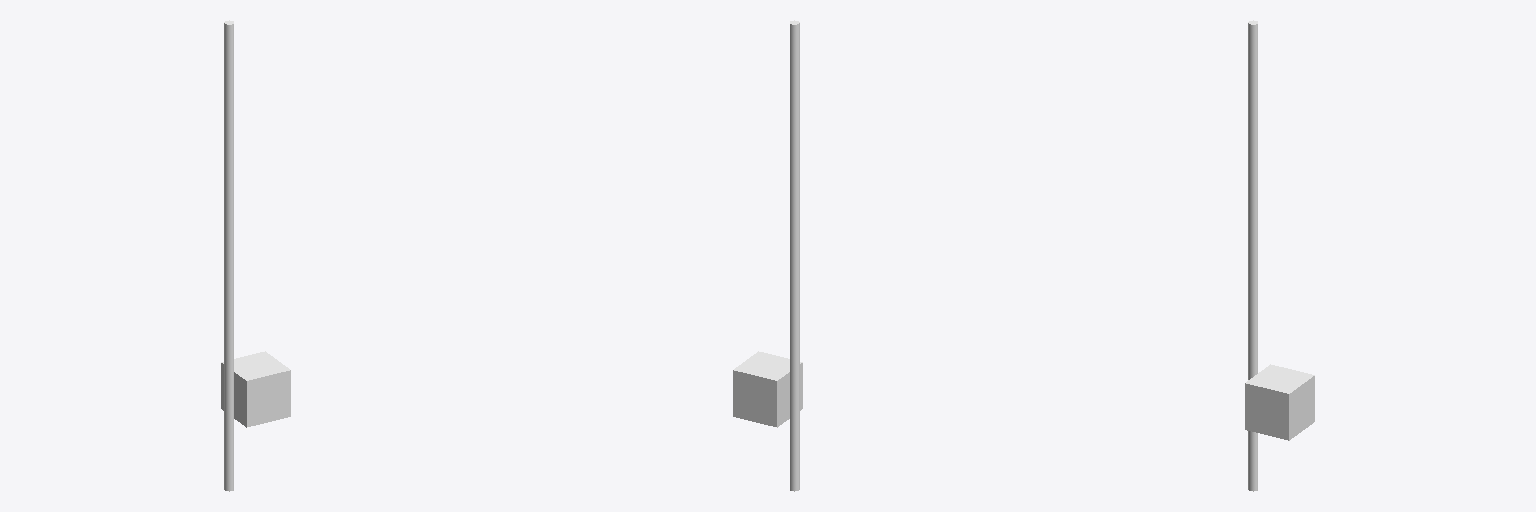
The robot description file, URDF, robot "lever":
<?xml version="1.0"?>
<robot name="lever">
    <material name="white">
        <color rgba="1.0 1.0 1.0 1.0"/>
    </material>
    <link name="base_link">
        <visual>
            <geometry>
                <box size="0.1 0.1 0.1"/>
            </geometry>
            <material name="white"/>
        </visual>
        <collision>
            <geometry>
                <box size="0.1 0.1 0.1"/>
            </geometry>
        </collision>
        <inertial>
            <mass value="0.1"/>
            <inertia ixx="0.1" ixy="0.0" ixz="0.0" iyy="0.1" iyz="0.0" izz="0.1"/>
        </inertial>
    </link>
    <link name="lever">
        <visual>
            <geometry>
                <cylinder radius="0.01" length="1.0"/>
            </geometry>
            <material name="white"/>
            <origin rpy="0.0 0.0 0.0" xyz="-0.01 0.0 0.3"/>
        </visual>
        <collision>
            <geometry>
                <cylinder radius="0.01" length="1.0"/>
            </geometry>
            <origin rpy="0.0 0.0 0.0" xyz="-0.01 0.0 0.3"/>
        </collision>
        <inertial>
            <origin xyz="0.0 0.0 0.0" rpy="0.0 0.0 0.0"/>
            <mass value=".1"/>
            <inertia ixx="0.1" ixy="0.1" ixz="0.1" iyy="0.1" iyz="0.1" izz="0.1"/>
        </inertial>
    </link>
    <joint name="basetolever" type="revolute">
        <parent link="base_link"/>
        <child link="lever"/>
        <origin xyz="-0.05 0.0 0.0"/>
        <axis xyz="1.0 0.0 0.0"/>
        <limit lower="-1.0472" upper="1.0472"/>
    </joint>
    <link name="lever_end">
        <collision>
            <geometry>
                <sphere radius="0.001"/>
            </geometry>
            <origin xyz="0.0 0.0 -0.001"/>
        </collision>
        <inertial>
            <mass value="0.0001"/>
            <inertia ixx="0.0" ixy="0.0" ixz="0.0" iyy="0.0" iyz="0.0" izz="0.0"/>
        </inertial>
    </link>
    <joint name="possensor" type="fixed">
        <parent link="lever"/>
        <child link="lever_end"/>
        <origin xyz="-0.01 0.0 -0.2"/>
    </joint>
</robot>

--- What the picture shows (computed from the rendered views, not written in the file) ---
Views: 3 orthographic renders of the robot side by side, from view 1: azimuth 30°, elevation 25°; view 2: azimuth 150°, elevation 25°; view 3: azimuth 330°, elevation 25°.
Model lever with 3 links and 2 joints (1 revolute, 1 fixed), rooted at base_link, posed all joints at 0.
Visible links, largest first — view 1: lever, base_link; view 2: lever, base_link; view 3: base_link, lever.
Boxes of the visible links, x1,y1,x2,y2 form: lever: (224,20,233,491); base_link: (221,351,290,427); lever: (790,20,799,491); base_link: (733,351,802,427); base_link: (1245,364,1314,440); lever: (1248,20,1257,491).
Size in the robot's own frame: 0.12 by 0.1 by 1 metres.
Geometry: primitives only (box / cylinder / sphere), no mesh files.
